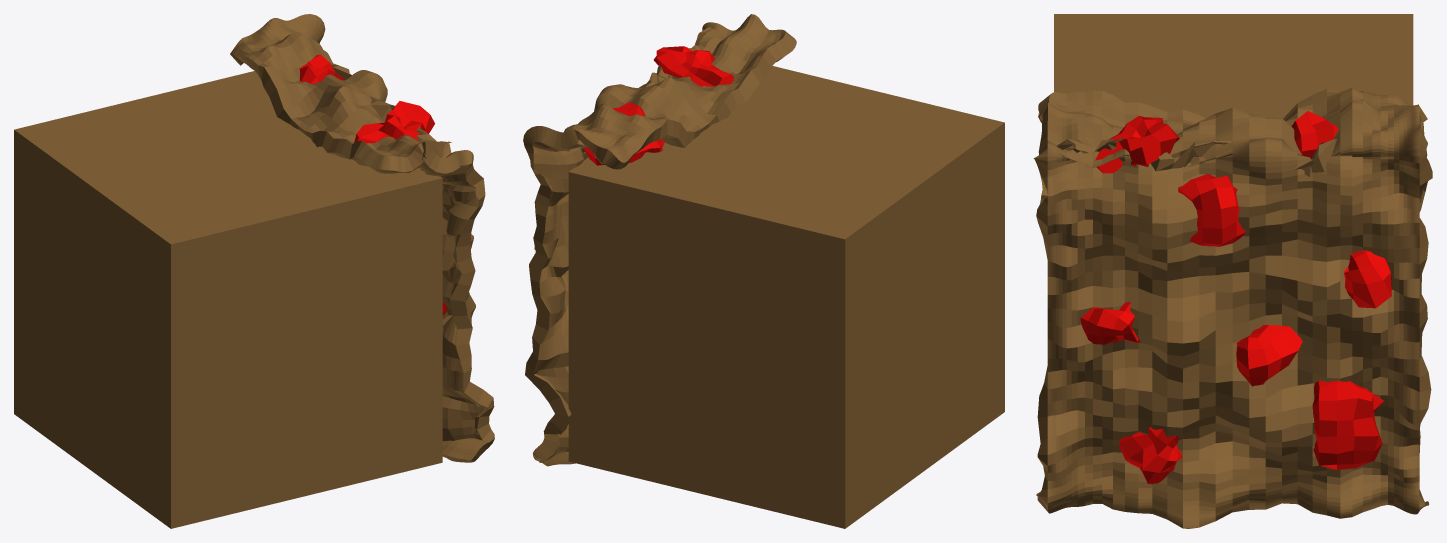
Rendered from MineralSide.fbx.
The picture shows the model from 3 angles, left to right: view 1: azimuth 30°, elevation 25°; view 2: azimuth 150°, elevation 25°; view 3: azimuth 270°, elevation 25°; orthographic projection. The views are drawn at different scales.
Parts seen in each view (by area): view 1: Cube, Side, Minerals; view 2: Cube, Side, Minerals; view 3: Side, Cube, Minerals.
Part boxes in pixels (x1=…): Cube: x1=14, y1=71, x2=442, y2=528; Side: x1=230, y1=14, x2=494, y2=462; Minerals: x1=299, y1=54, x2=447, y2=315; Cube: x1=568, y1=66, x2=1004, y2=528; Side: x1=523, y1=14, x2=796, y2=466; Minerals: x1=534, y1=46, x2=733, y2=249; Side: x1=1033, y1=87, x2=1432, y2=528; Cube: x1=1054, y1=14, x2=1413, y2=118; Minerals: x1=1080, y1=111, x2=1391, y2=484.
Size of the model in its own units: 244 by 245 by 222.
